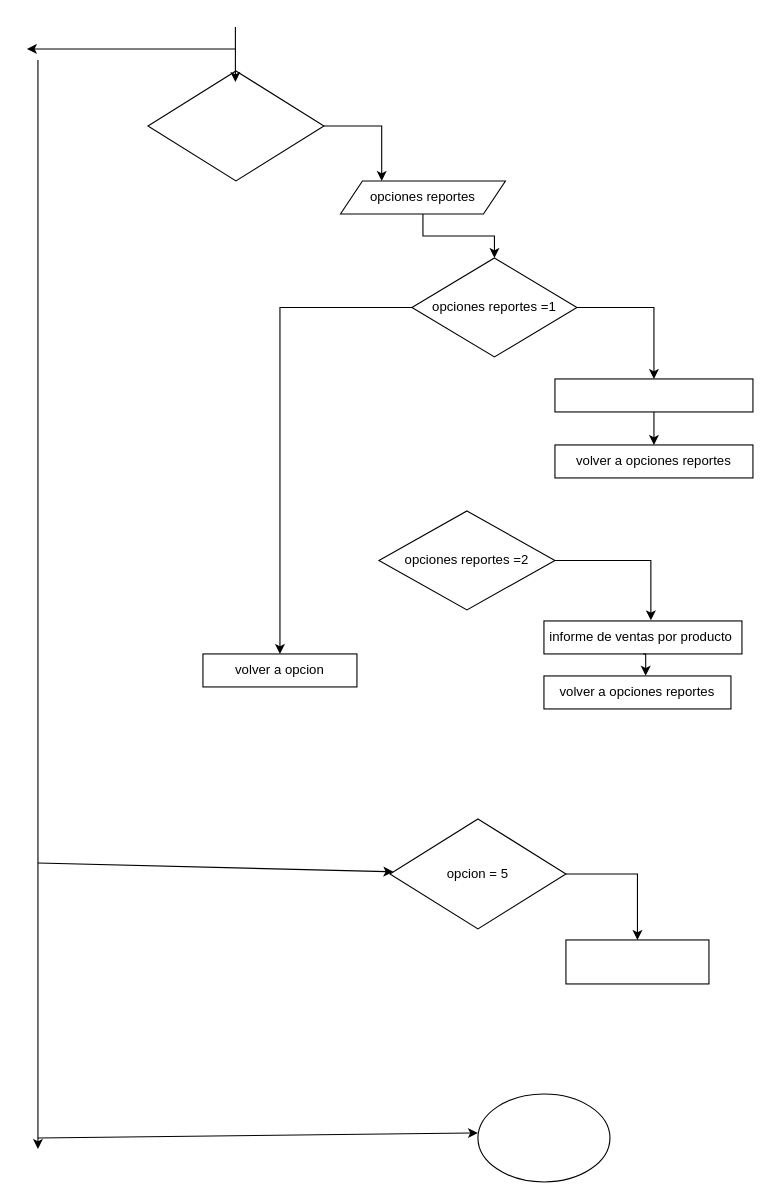
This 772x1201 diagram has some shape labels left out. The centre of each missing label's shape, as x and y in pixels:
"fin" belongs at (543,1137).
"informes de ventas por clientes" belongs at (653,395).
"opcion = 4" belongs at (235,125).
"salir" belongs at (637,961).
